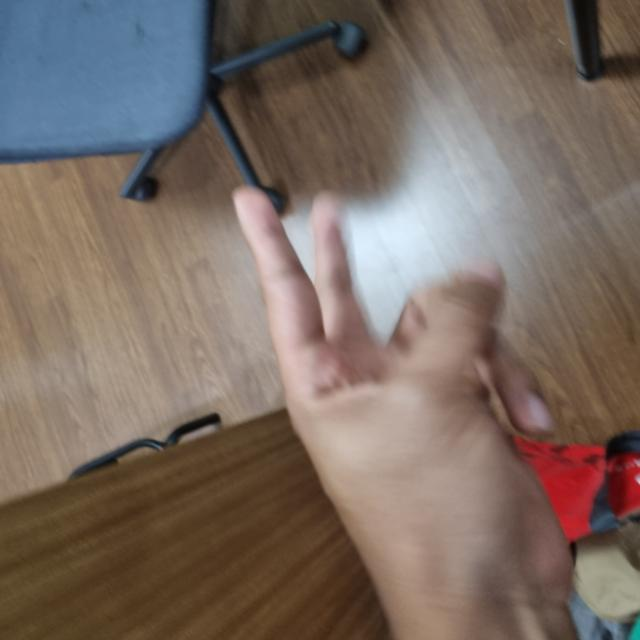Scissors: (0, 245, 442, 569)
